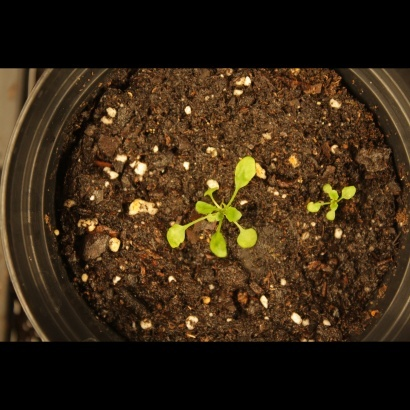leaf: (161, 218, 196, 255), (231, 149, 259, 193), (234, 221, 263, 255), (207, 226, 231, 263), (193, 196, 220, 219), (301, 198, 324, 221), (339, 178, 362, 201), (315, 176, 338, 199), (327, 202, 350, 225), (201, 178, 224, 201), (223, 203, 246, 226)
